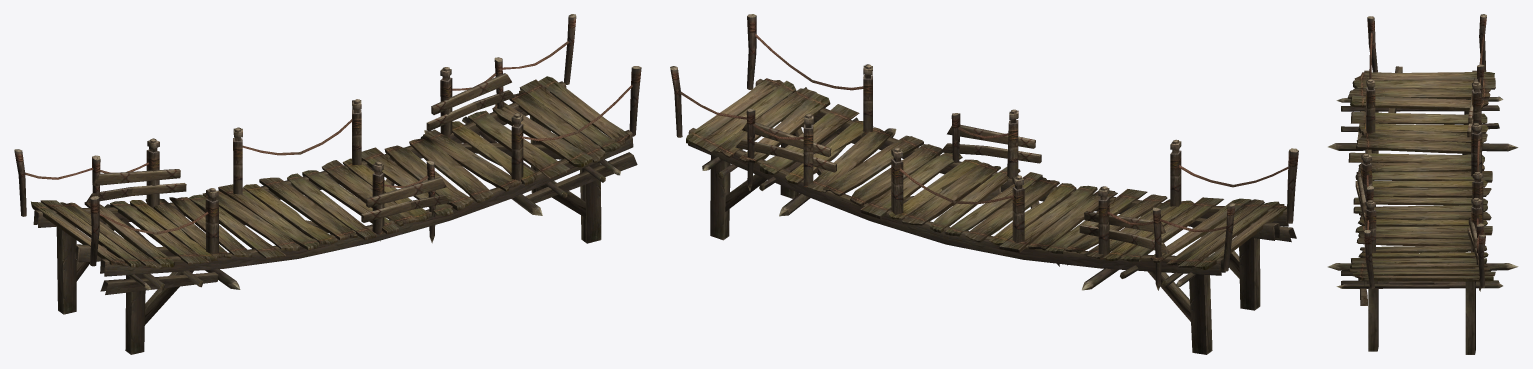
The model's file is tlfb03_muqiao.FBX.
3 renders of one model, left to right at view 1: azimuth 30°, elevation 25°; view 2: azimuth 150°, elevation 25°; view 3: azimuth 270°, elevation 25°, orthographic. The views are drawn at different scales.
Parts seen in each view (by area): view 1: tlfb03_muqiao; view 2: tlfb03_muqiao; view 3: tlfb03_muqiao.
Boxes of the visible parts, box(x1,y1,x2,y2) form: tlfb03_muqiao: box(14, 14, 641, 354); tlfb03_muqiao: box(670, 14, 1298, 354); tlfb03_muqiao: box(1327, 14, 1518, 354).
Bounding box in the file's own units: 1476 × 417 × 537.
